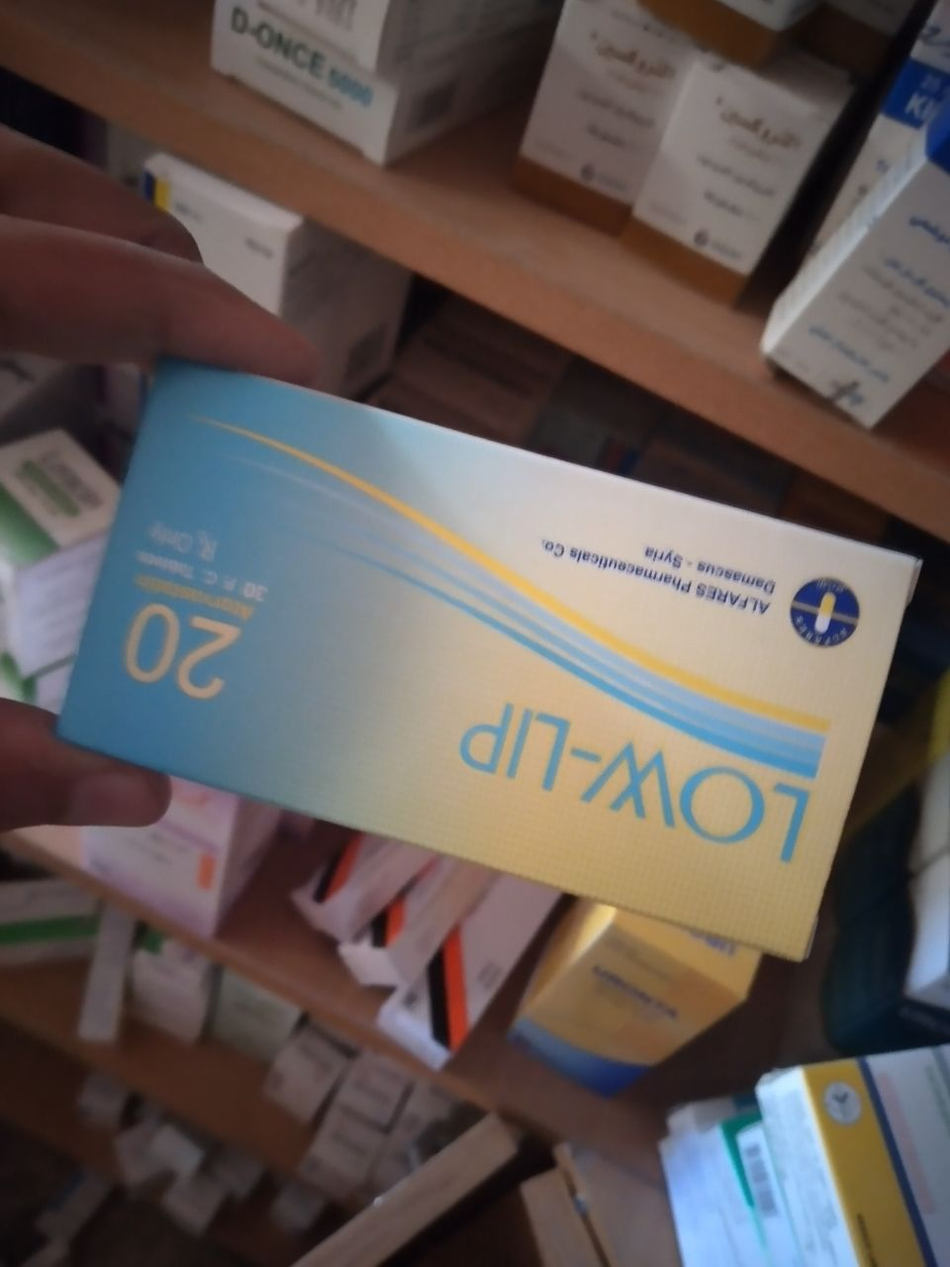Medicine: (73, 350, 924, 977)
